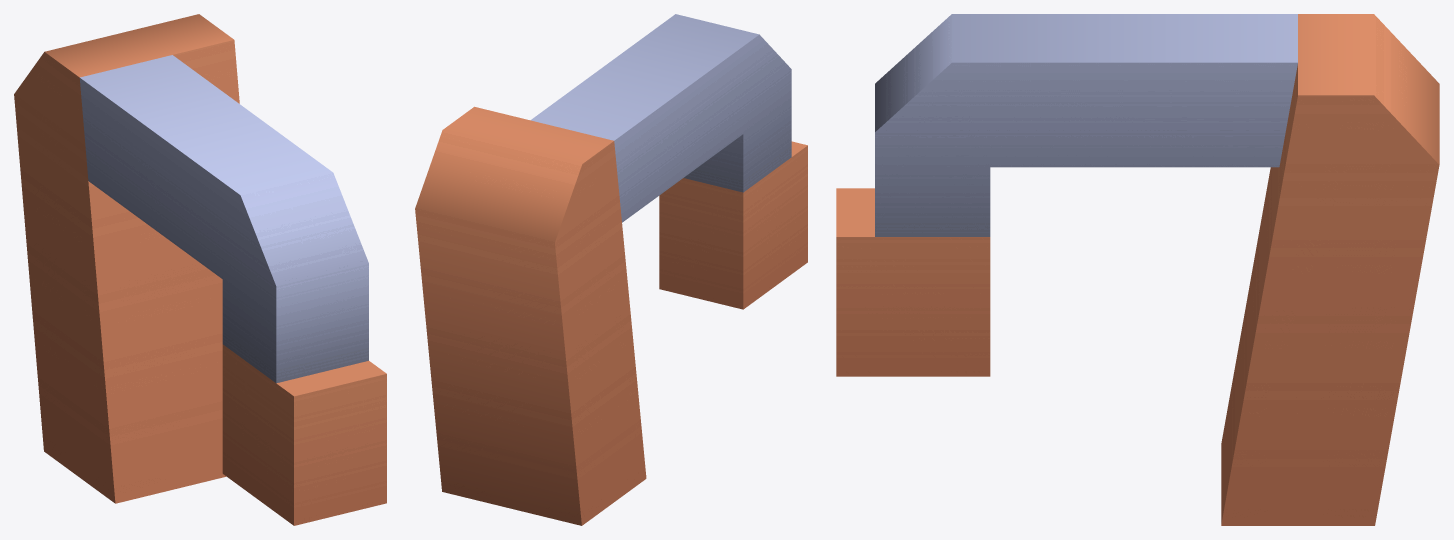
File: aid_hearing.glb
The picture shows the model from 3 angles, left to right: view 1: azimuth 30°, elevation 25°; view 2: azimuth 150°, elevation 25°; view 3: azimuth 270°, elevation 25°; orthographic projection. The views are drawn at different scales.
Visible parts, largest first — view 1: aid_hearing; view 2: aid_hearing; view 3: aid_hearing.
Boxes of the visible parts, x1,y1,x2,y2 form: aid_hearing: [14, 14, 386, 525]; aid_hearing: [415, 14, 807, 525]; aid_hearing: [836, 14, 1439, 525].
Bounding box in the file's own units: 0.05 × 0.1235 × 0.1568.
1 material, 1 textured.
